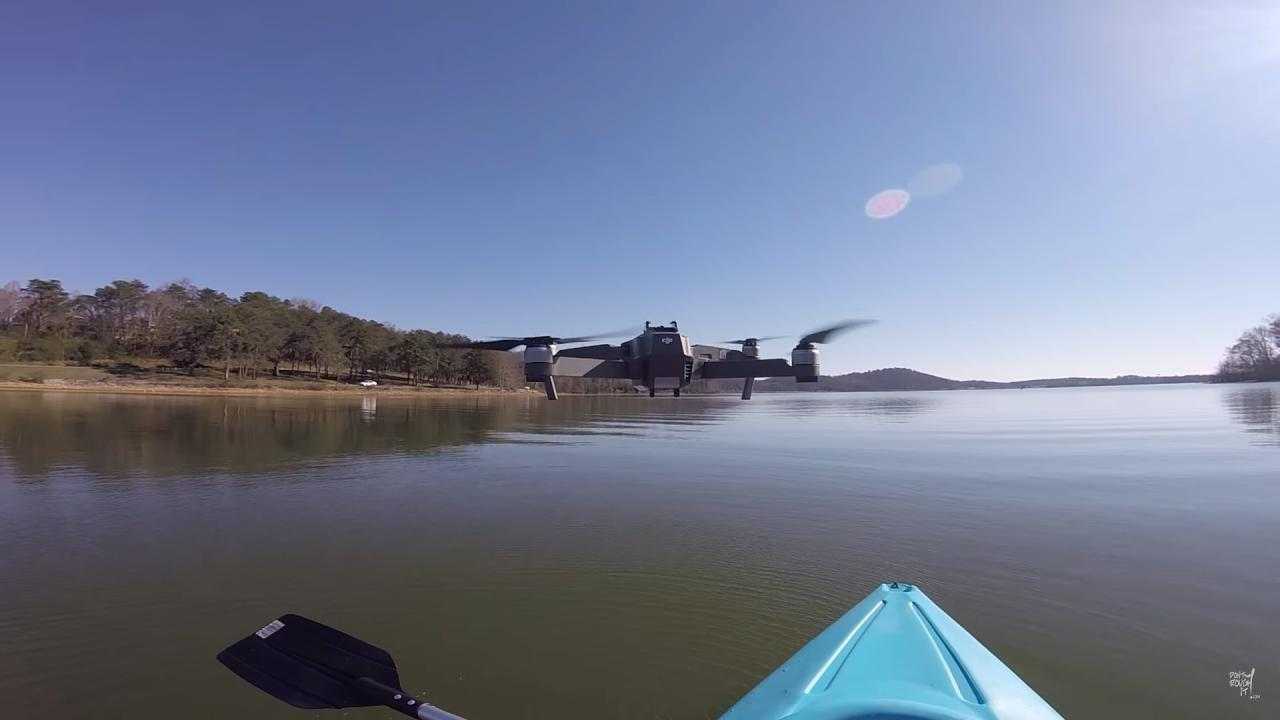Drone: (419, 300, 893, 411)
